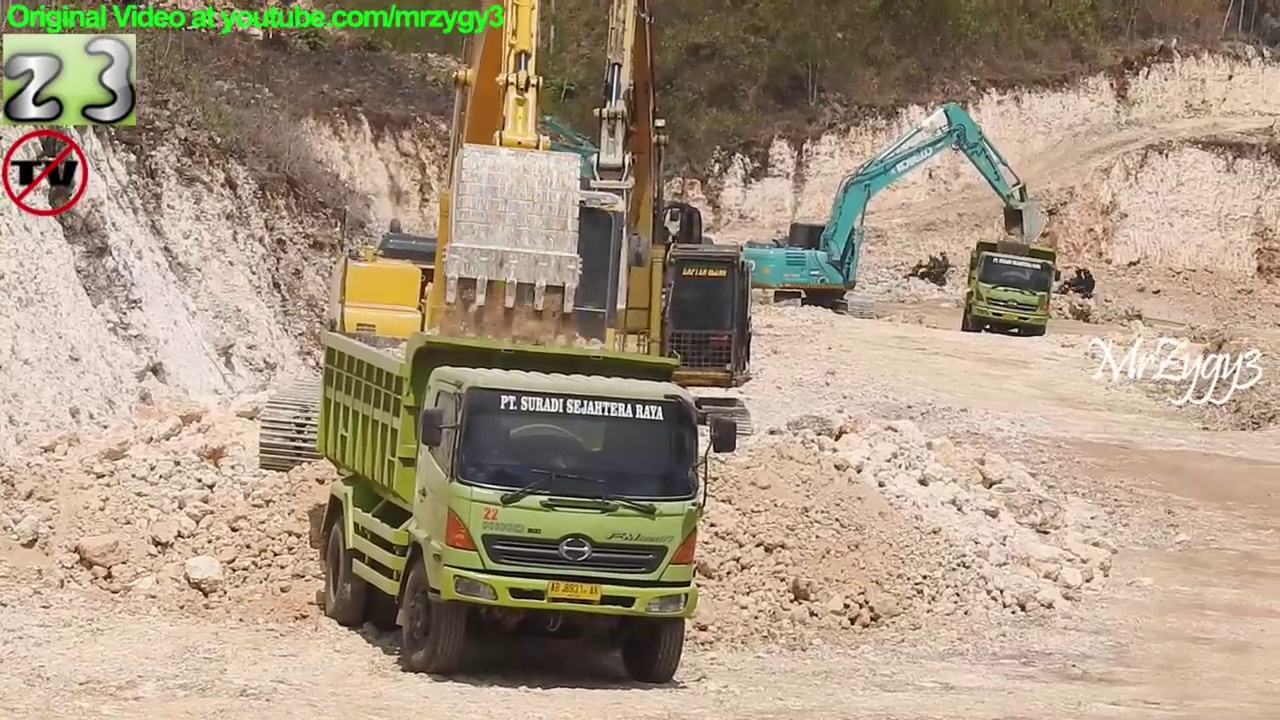excavator: (253, 3, 674, 483), (354, 1, 761, 468), (736, 98, 1054, 317)
truck: (315, 328, 740, 690), (958, 238, 1060, 341)
